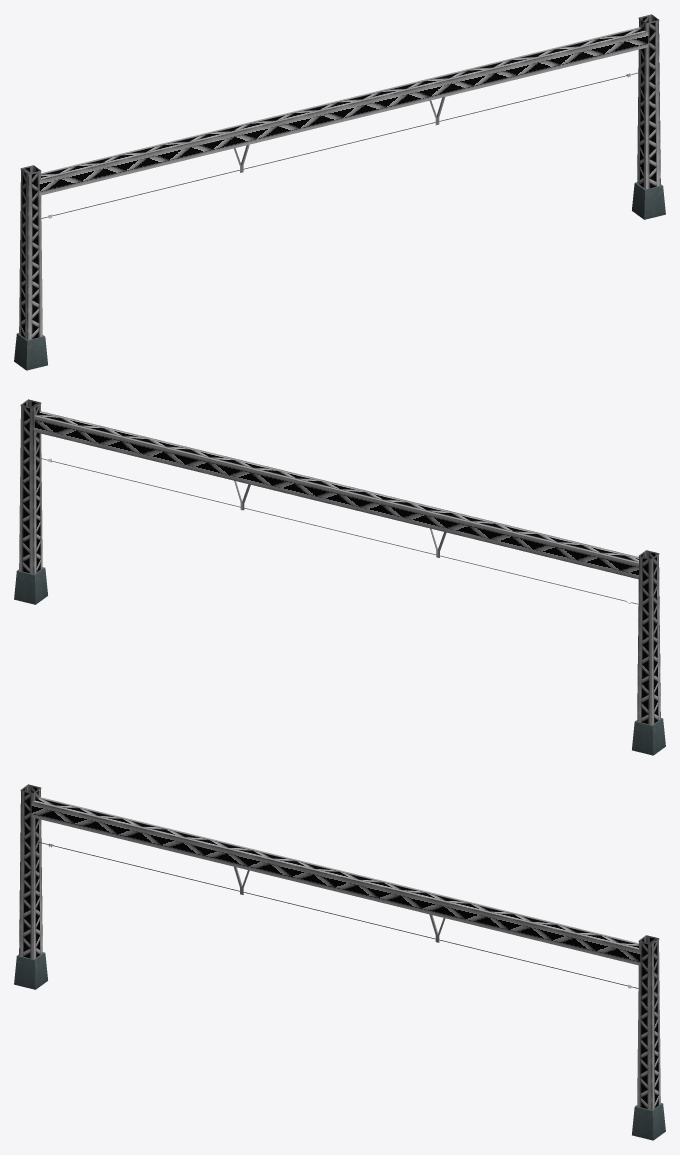
The model's file is KASENCHU_6RAIL.glb.
The picture shows the model from 3 angles, top to bottom: view 1: azimuth 30°, elevation 25°; view 2: azimuth 150°, elevation 25°; view 3: azimuth 330°, elevation 25°; orthographic projection.
Visible parts, largest first — view 1: kasenchu; view 2: kasenchu; view 3: kasenchu.
Part boxes in pixels (<box>): kasenchu: <box>14,14,665,370</box>; kasenchu: <box>14,399,665,755</box>; kasenchu: <box>14,784,665,1140</box>.
Size of the model in its own units: 84.95 by 24.62 by 2.88.
5 materials, 4 textured.
